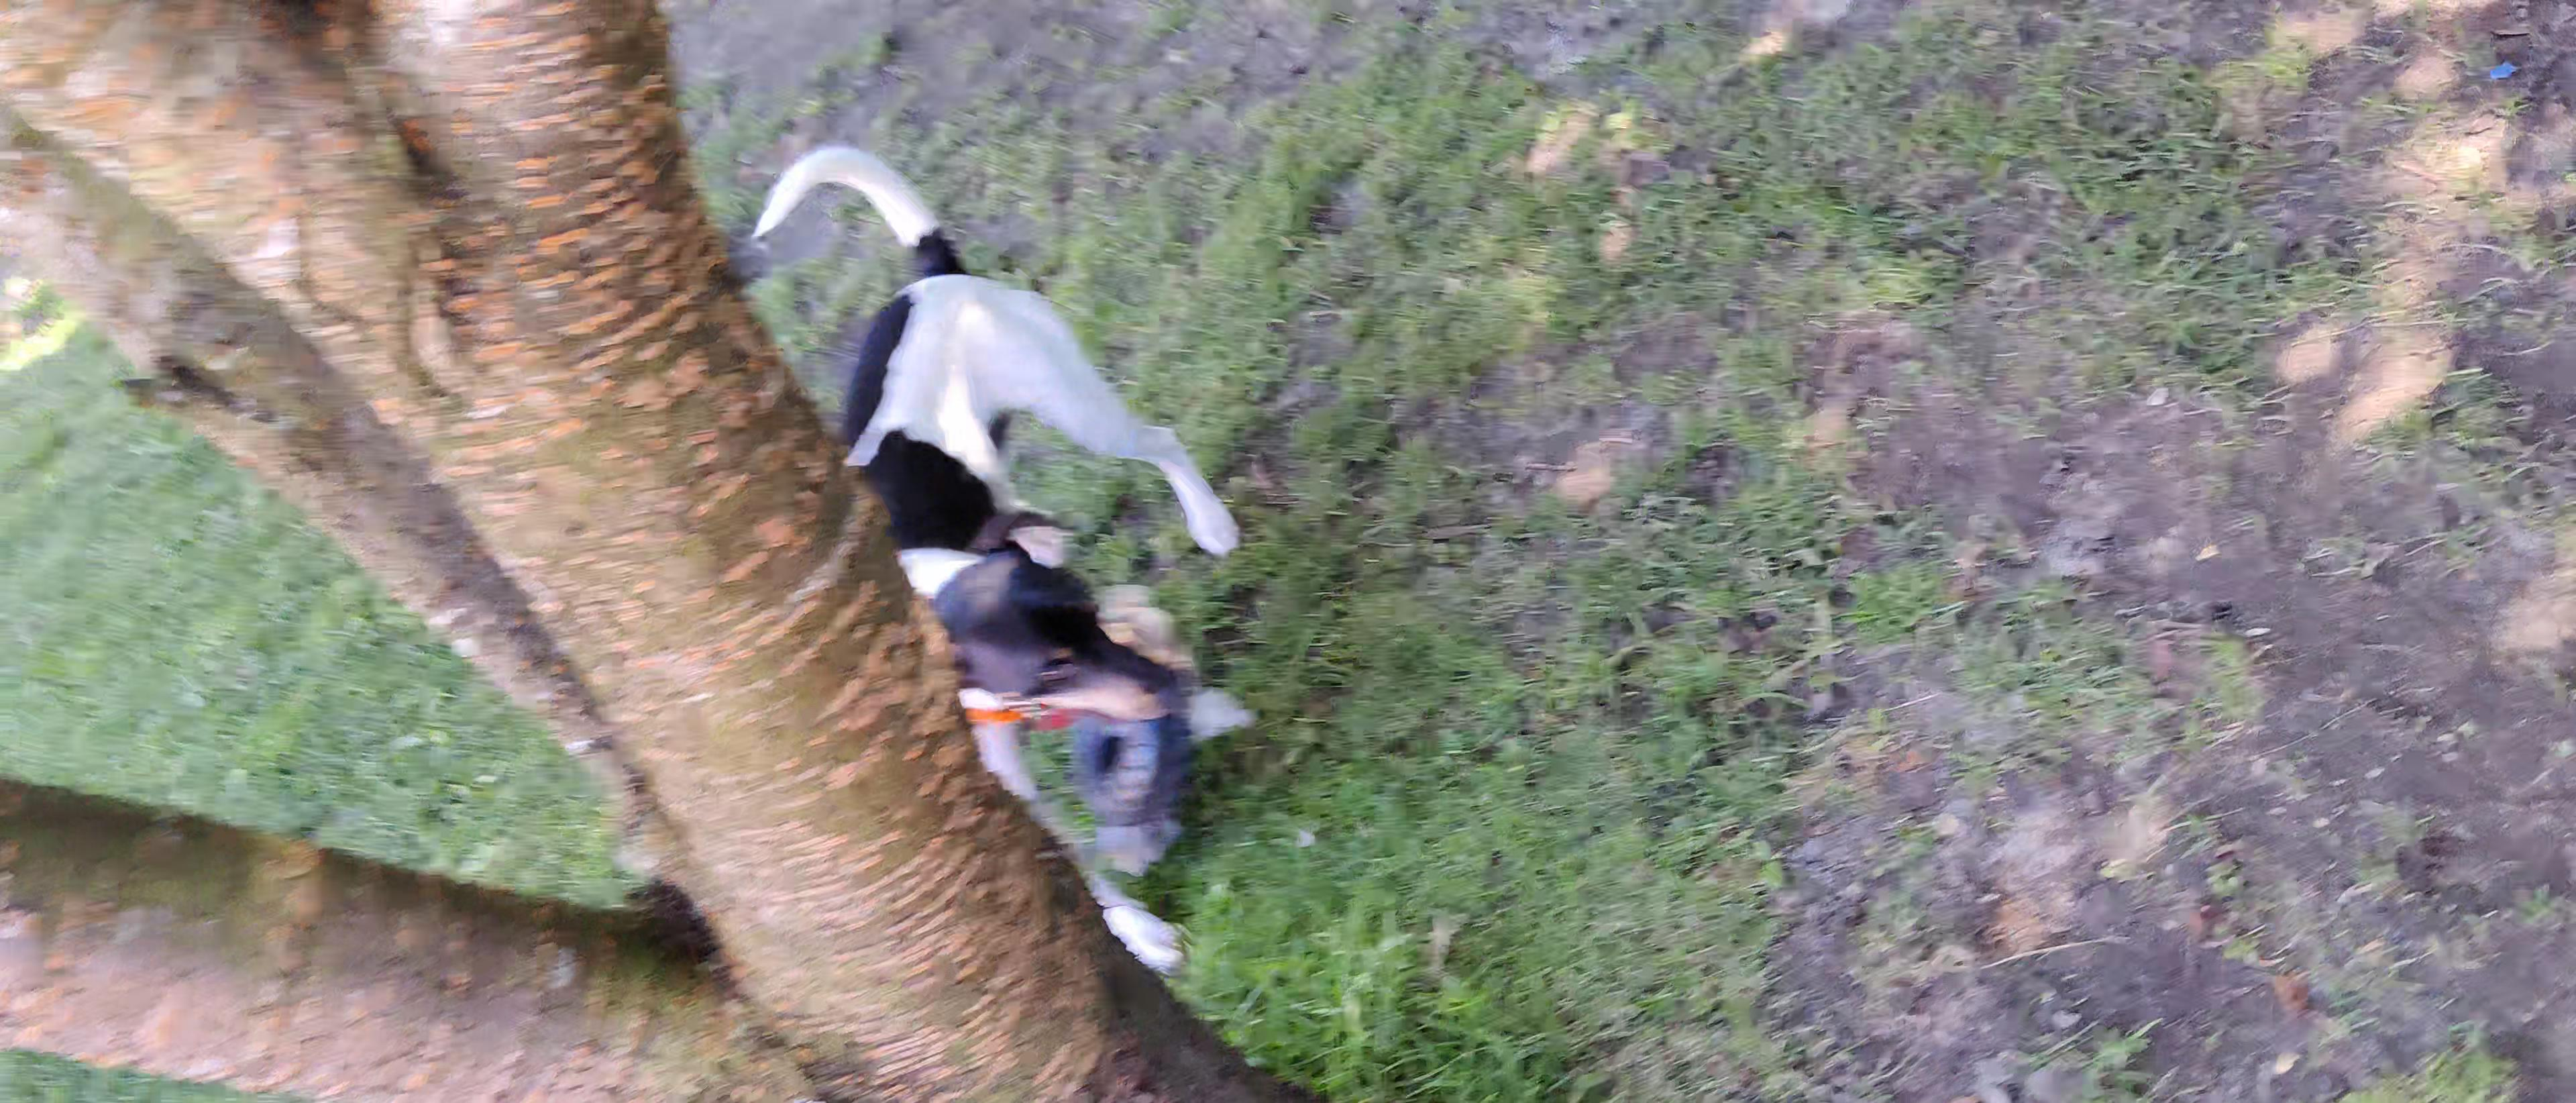Dog: (716, 118, 1276, 1013)
